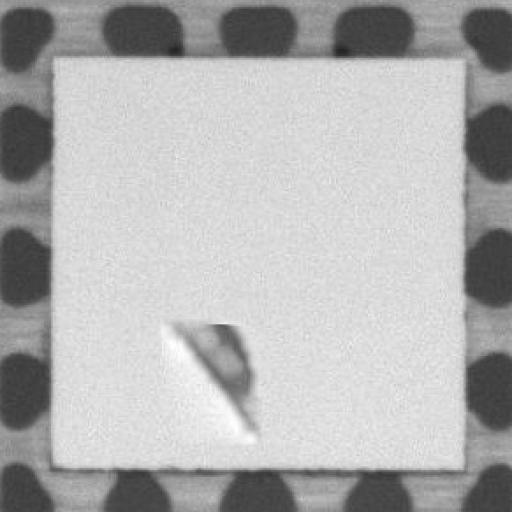DIE_INK: (153, 314, 255, 428)
